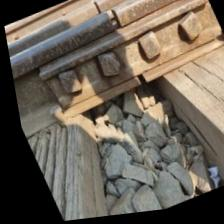person: (97, 7, 131, 39), (125, 72, 152, 94), (85, 0, 106, 20)
